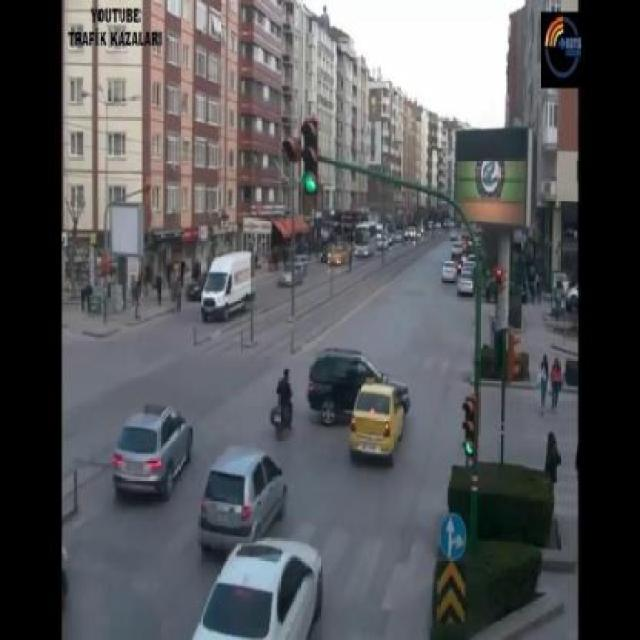accident: (305, 349, 413, 467)
